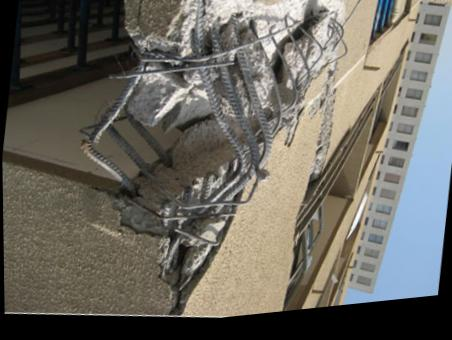crack: (136, 0, 144, 32)
damage: (81, 0, 344, 320)
